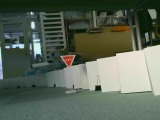stop: (59, 54, 76, 69)
